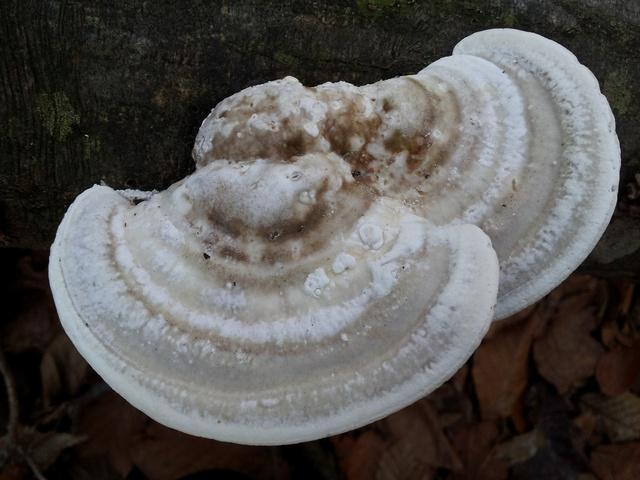poisonous_mushroom: (45, 25, 621, 446)
